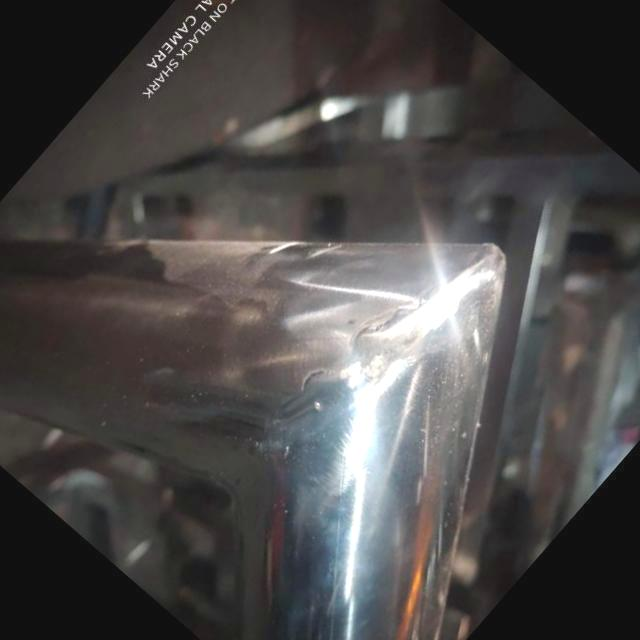defect: (342, 268, 464, 357), (273, 362, 330, 414)
